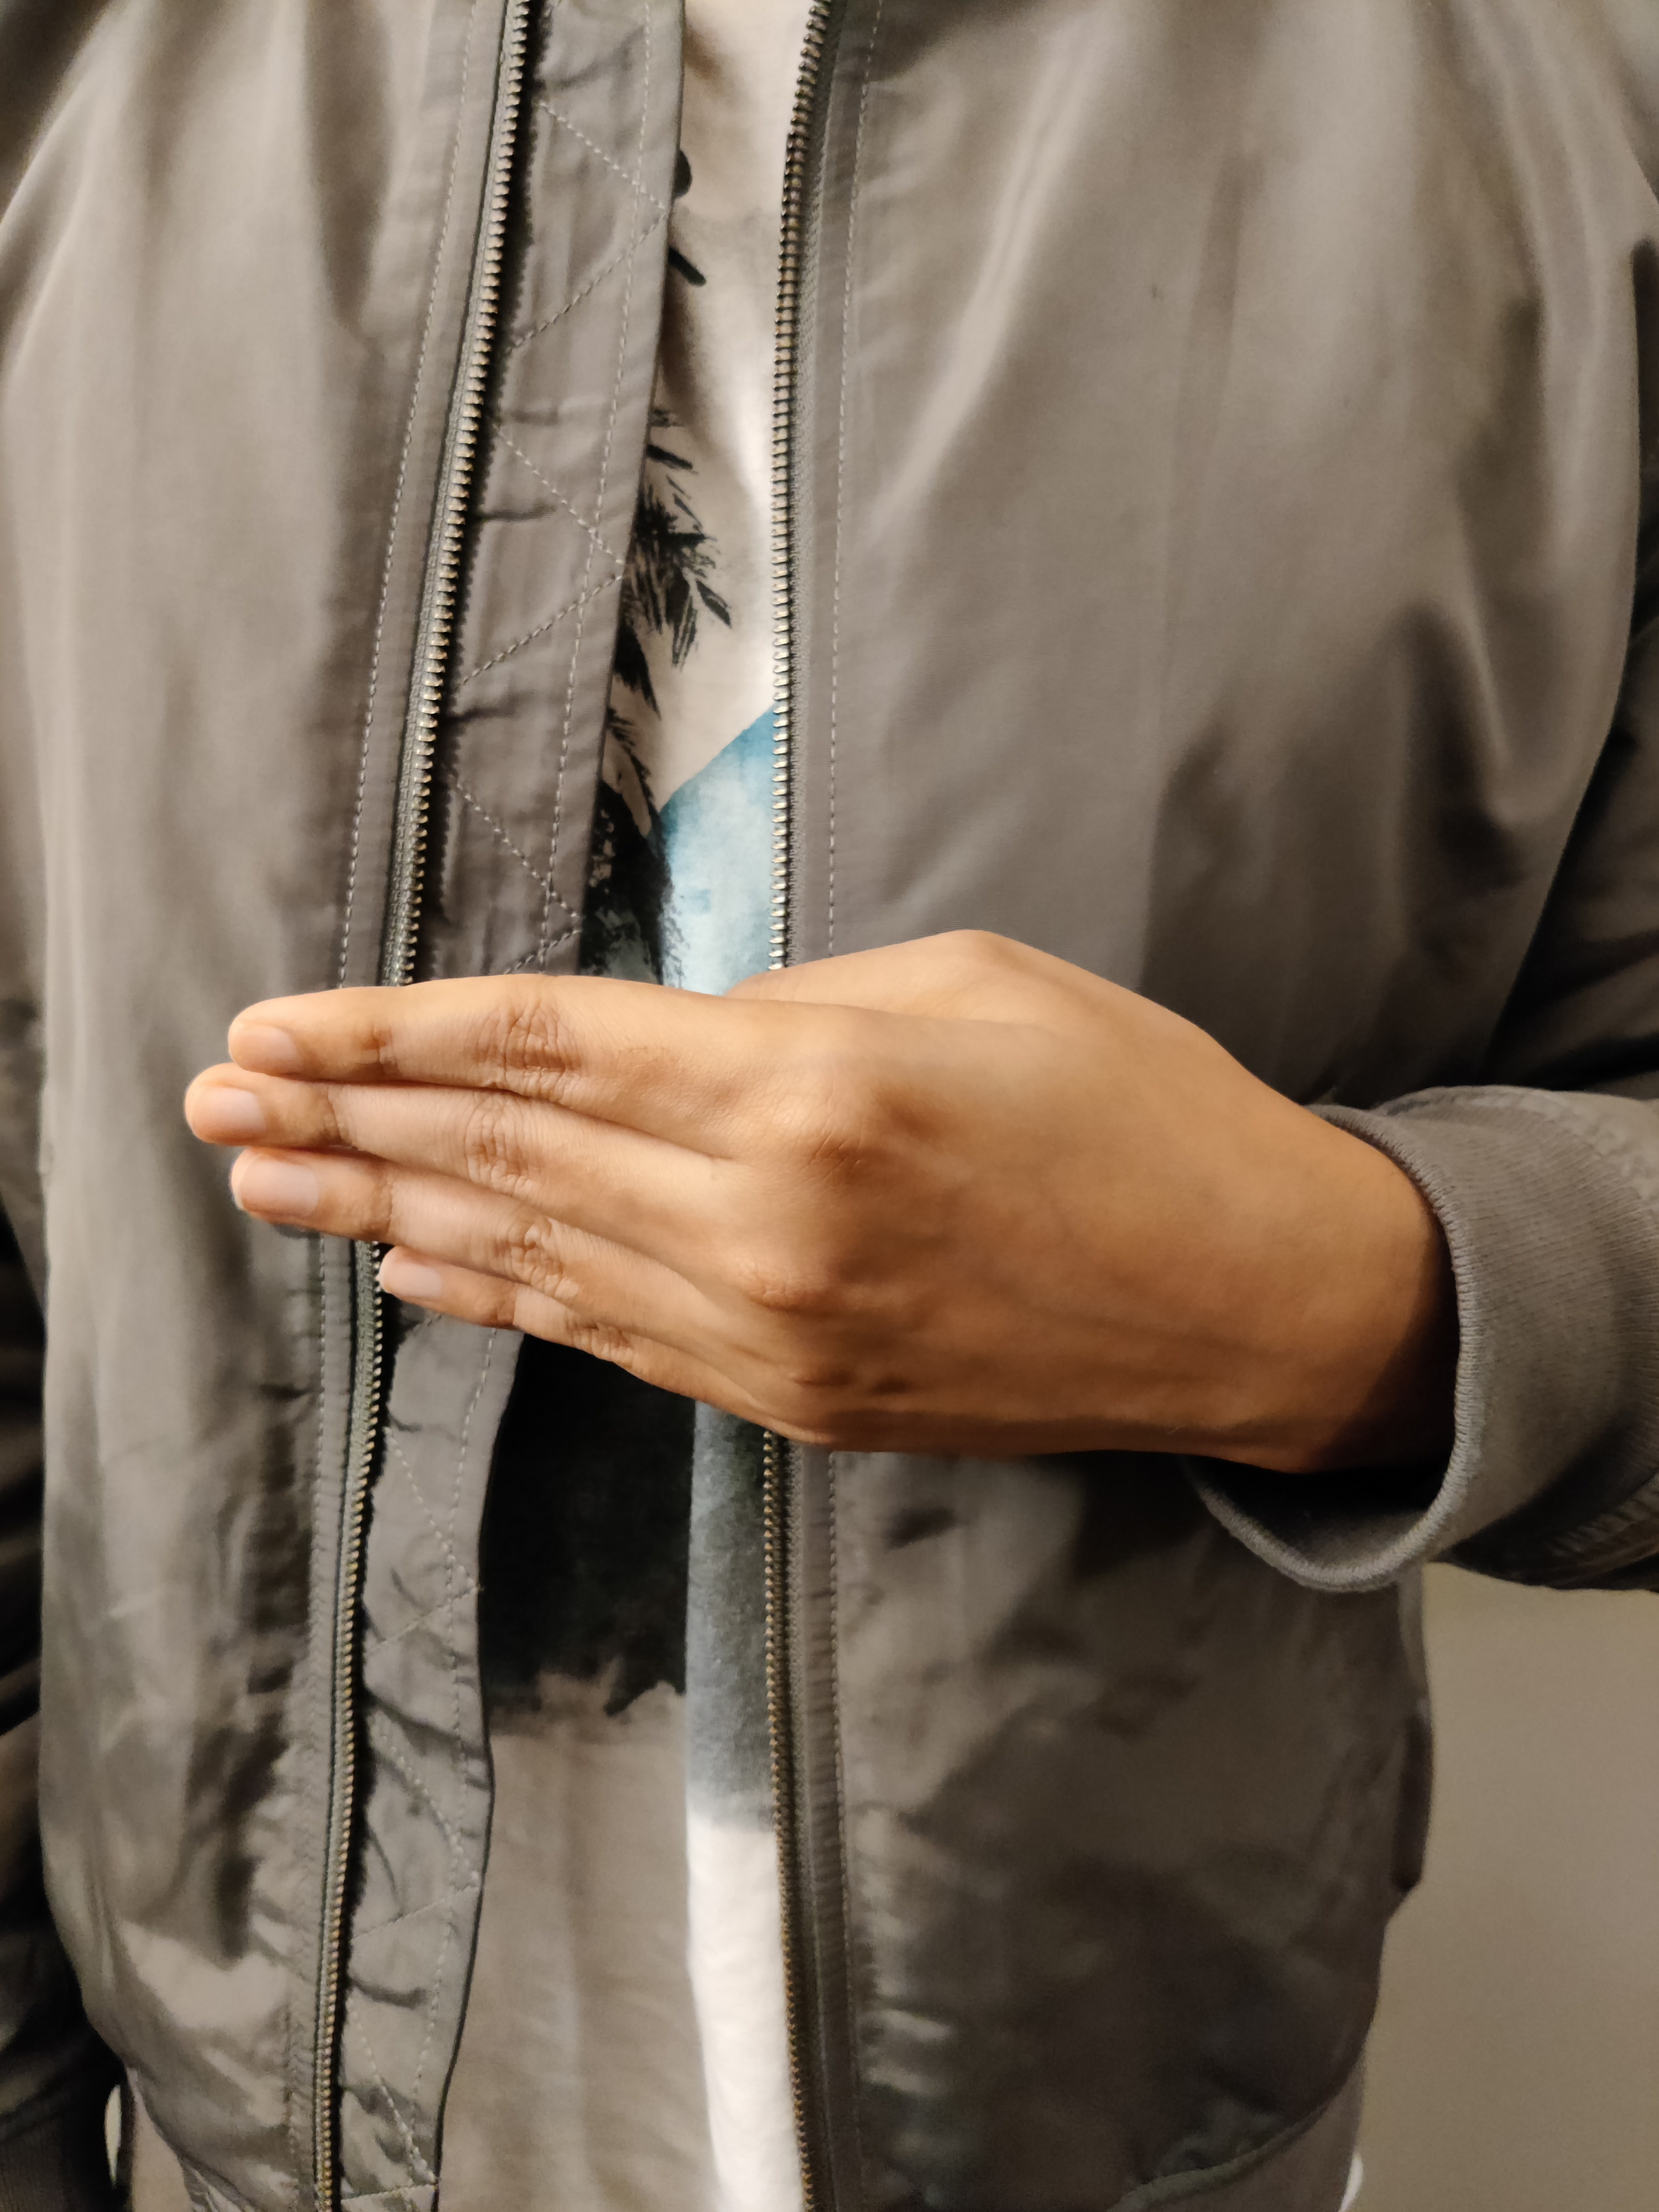right: (94, 740, 1542, 1737)
